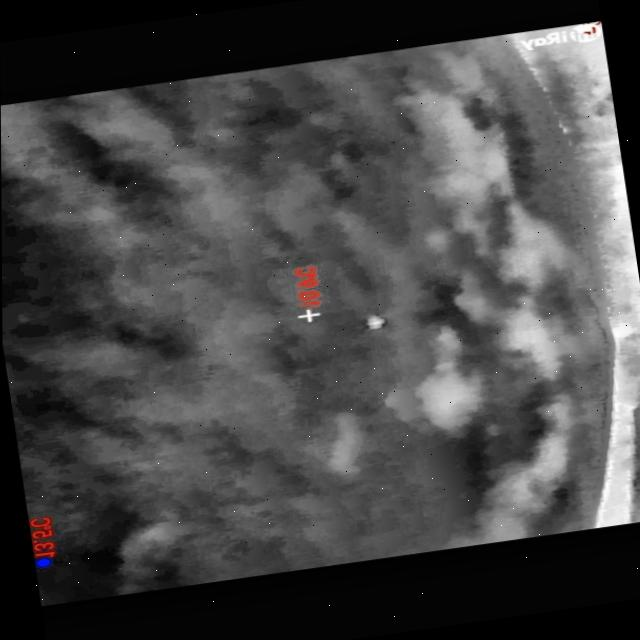drone: (362, 314, 387, 329)
